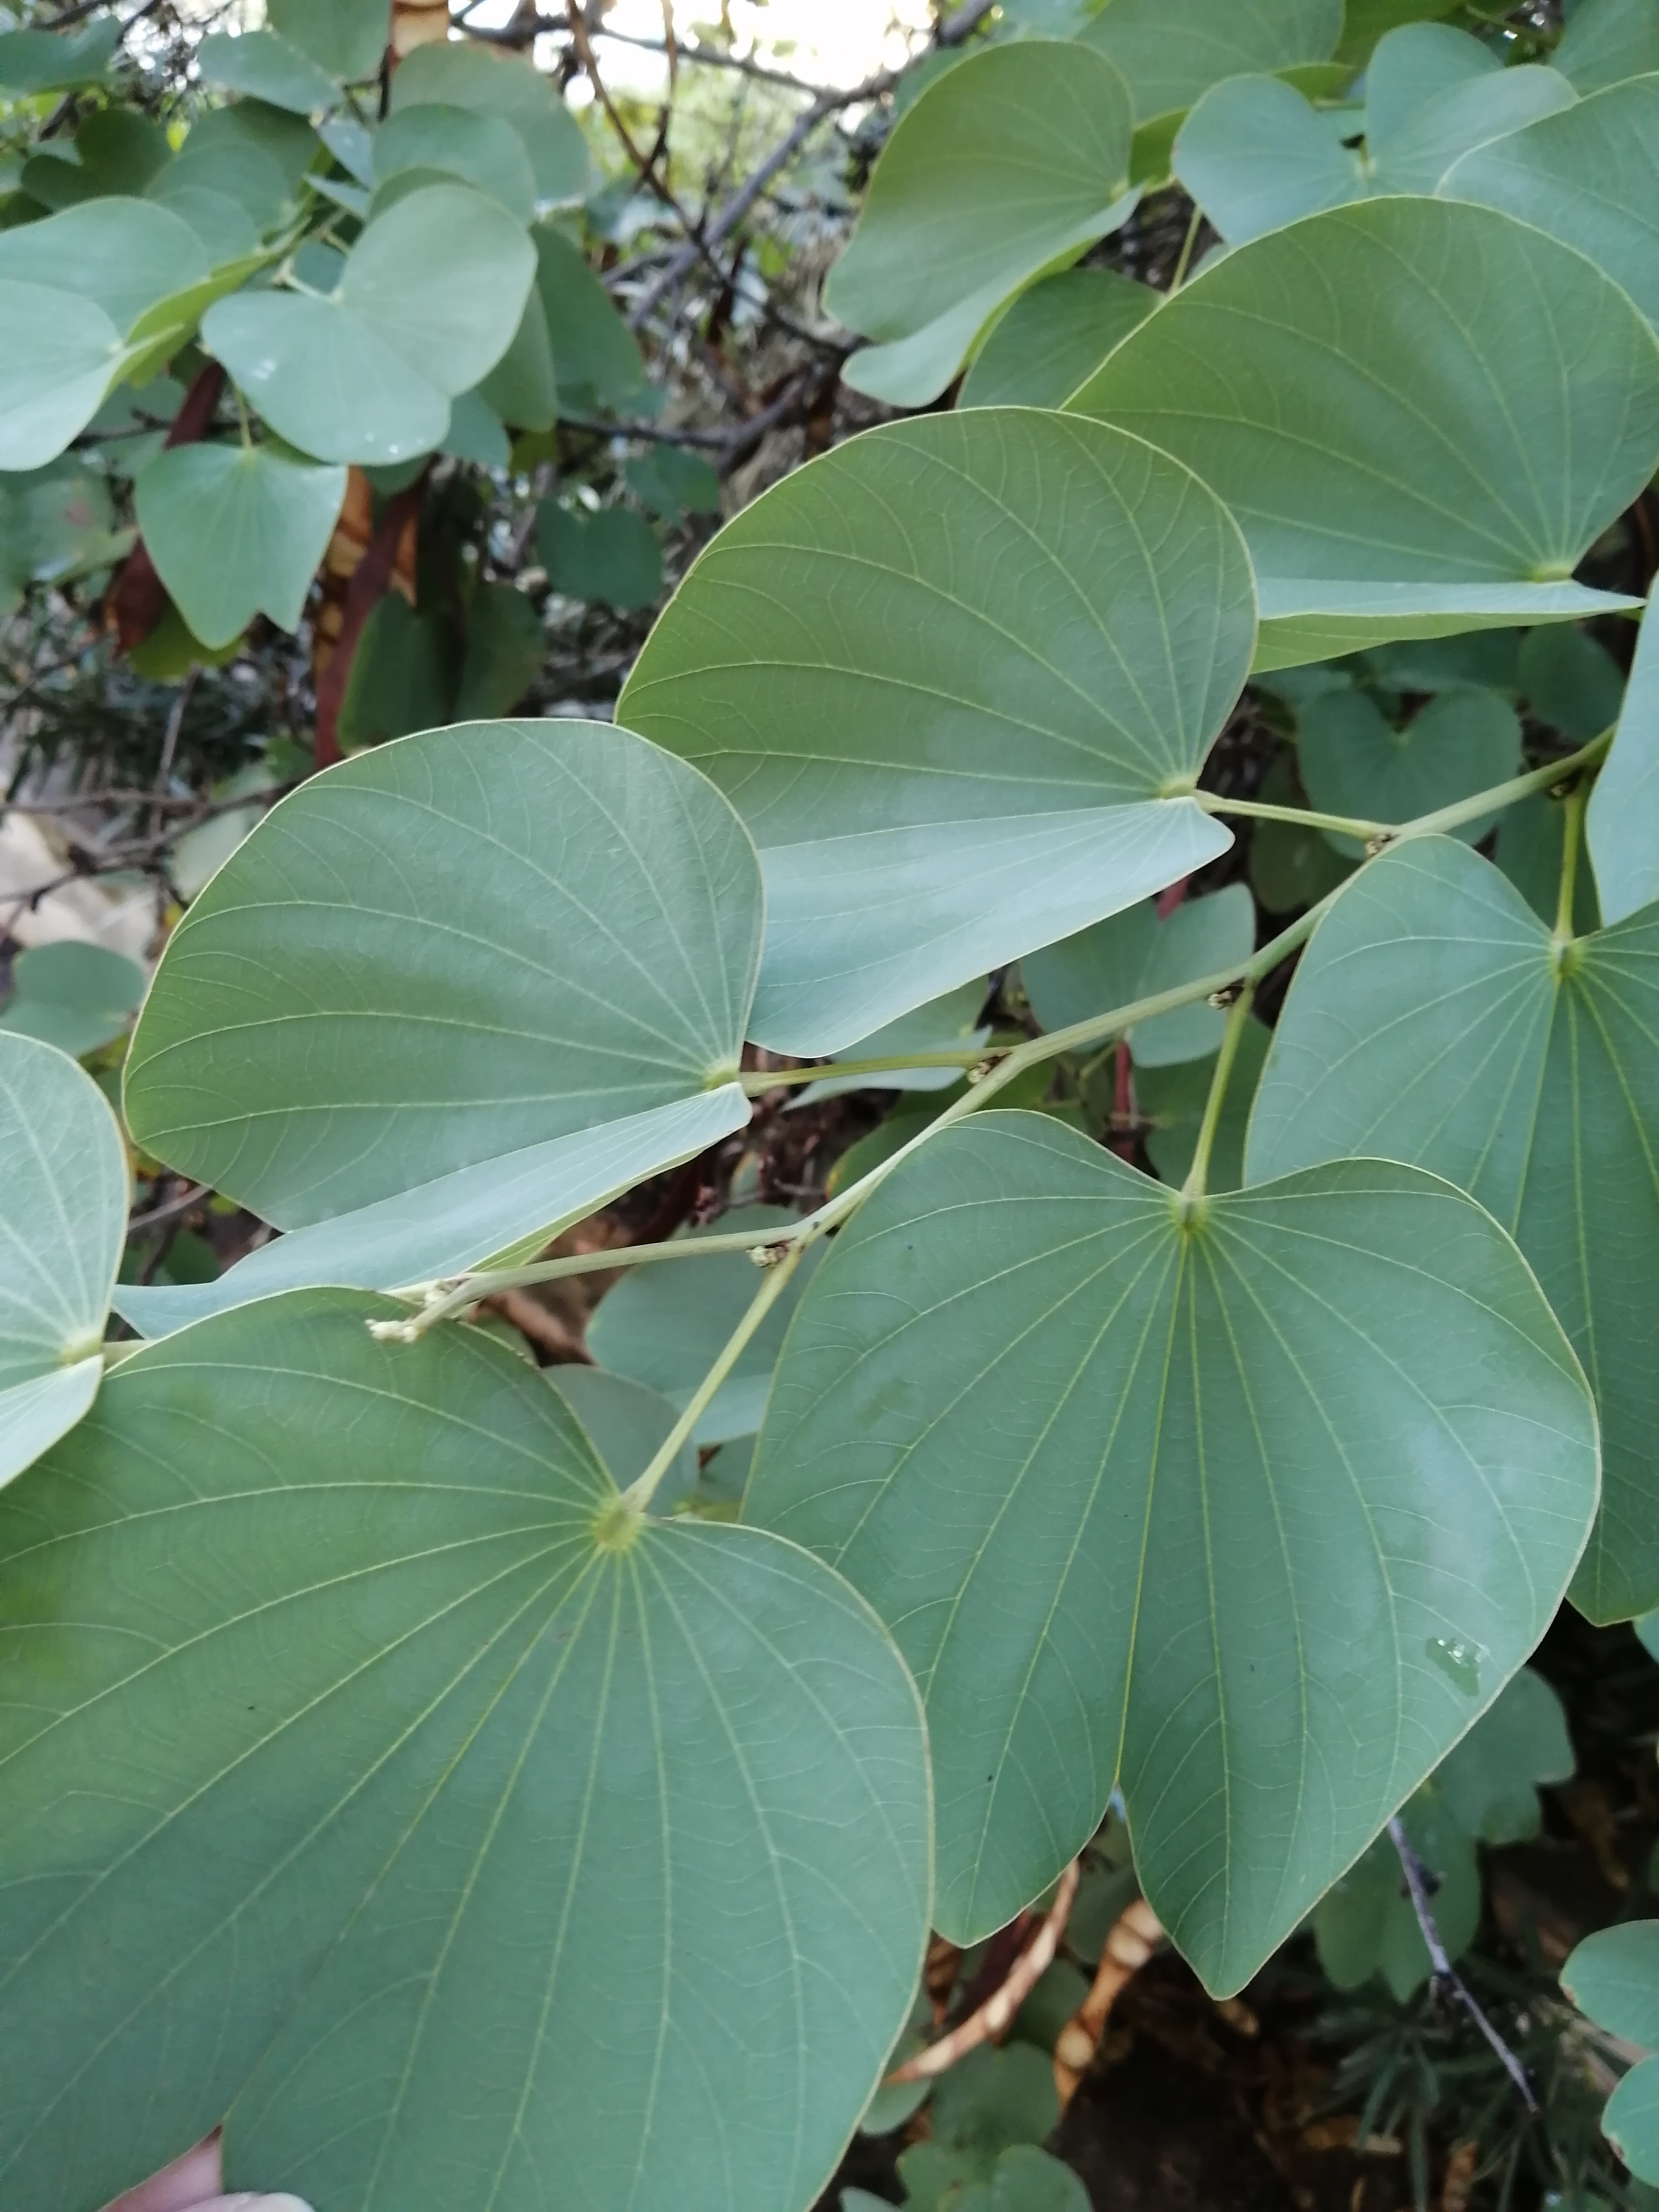healthy: (17, 1413, 1145, 2200), (701, 1136, 1622, 1944), (615, 392, 1260, 1042), (1033, 202, 1640, 765), (134, 765, 749, 1298), (760, 37, 1230, 401), (197, 164, 579, 496), (124, 385, 359, 679)
